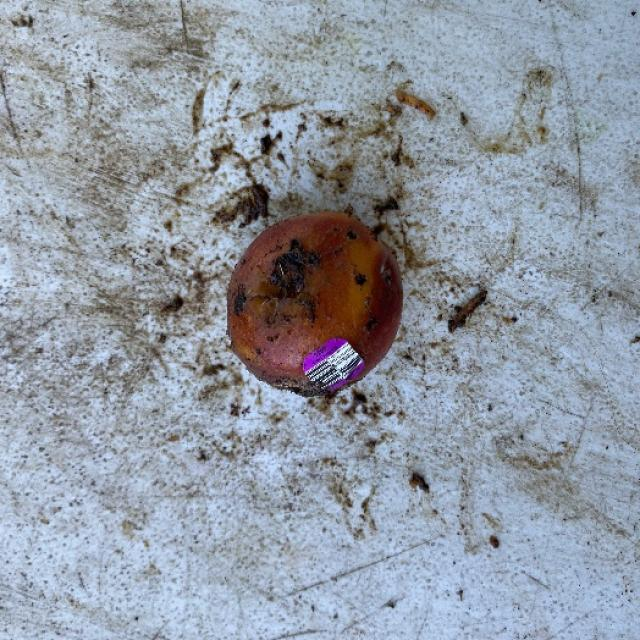organik: (204, 217, 402, 388)
